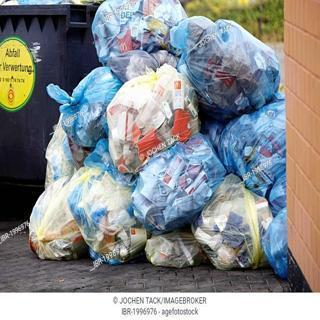Garbage: (174, 12, 284, 117), (66, 154, 162, 265), (106, 64, 204, 168), (133, 133, 227, 229), (192, 168, 276, 269), (92, 0, 194, 82), (45, 56, 122, 147), (28, 178, 92, 262), (141, 230, 213, 266)
